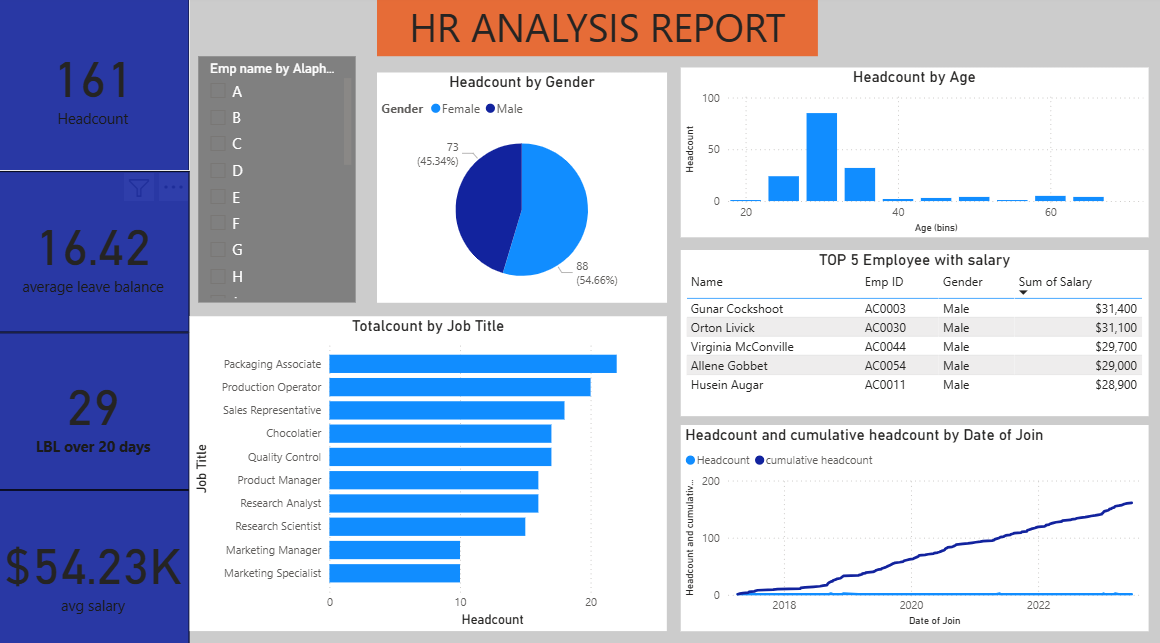

This screenshot's page, from the dashboard's own definition file:
{"tool":"powerbi","page":{"name":"Page 9","canvas":[1280,720],"ordinal":8},"visuals":[{"type":"card","fields":{"Values":["staff.Headcount"]},"box":[0,0,211.3,193.5],"z":0},{"type":"card","fields":{"Values":["staff.LBL over 20 days"]},"box":[0,370.5,211.3,172.9],"z":1000},{"type":"card","fields":{"Values":["staff.avg salary"]},"box":[0,543.4,211.3,177],"z":2000},{"type":"card","fields":{"Values":["staff.average leave balance"]},"box":[0,193.5,211.3,177],"z":3000},{"type":"textbox","box":[417.2,0,484.4,67.2],"z":4000},{"type":"clusteredBarChart","title":"Totalcount by Job Title","fields":{"Category":["staff.Job Title"],"Y":["staff.Headcount"]},"box":[211.3,352.7,524.2,345.8],"z":5000},{"type":"pieChart","fields":{"Category":["staff.Gender"],"Y":["staff.Headcount"]},"box":[417.2,85.1,318.4,252.5],"z":6000},{"type":"tableEx","title":"TOP 5 Employee with salary","fields":{"Values":["staff.Name","staff.Emp ID","staff.Gender","Sum(staff.Salary)"]},"box":[750.6,279.9,513.2,182.5],"z":7000},{"type":"lineChart","fields":{"Y":["staff.Headcount","staff.cumulative headcount"],"Category":["staff.Date of Join"]},"box":[750.6,472,513.2,226.4],"z":8000},{"type":"clusteredColumnChart","title":"Headcount by Age","fields":{"Category":["staff.Age (bins)"],"Y":["staff.Headcount"]},"box":[750.6,79.6,513.2,186.6],"z":9000},{"type":"slicer","fields":{"Values":["staff.First Characters"]},"box":[220.9,67.2,172.9,270.3],"z":9001}]}

Visuals, with their boxes in screenshot pixels (x1, y1, x2, y2), scaled from the page's 1280x720 canvas onto the 1160x643 screenshot:
card - staff.Headcount: bbox=[0, 0, 191, 173]
card - staff.LBL over 20 days: bbox=[0, 331, 191, 485]
card - staff.avg salary: bbox=[0, 485, 191, 642]
card - staff.average leave balance: bbox=[0, 173, 191, 331]
textbox: bbox=[378, 0, 817, 60]
"Totalcount by Job Title" clusteredBarChart: bbox=[191, 315, 667, 624]
pieChart - staff.Gender x staff.Headcount: bbox=[378, 76, 667, 301]
"TOP 5 Employee with salary" tableEx: bbox=[680, 250, 1145, 413]
lineChart - staff.Headcount x staff.cumulative headcount: bbox=[680, 422, 1145, 624]
"Headcount by Age" clusteredColumnChart: bbox=[680, 71, 1145, 238]
slicer - staff.First Characters: bbox=[200, 60, 357, 301]
